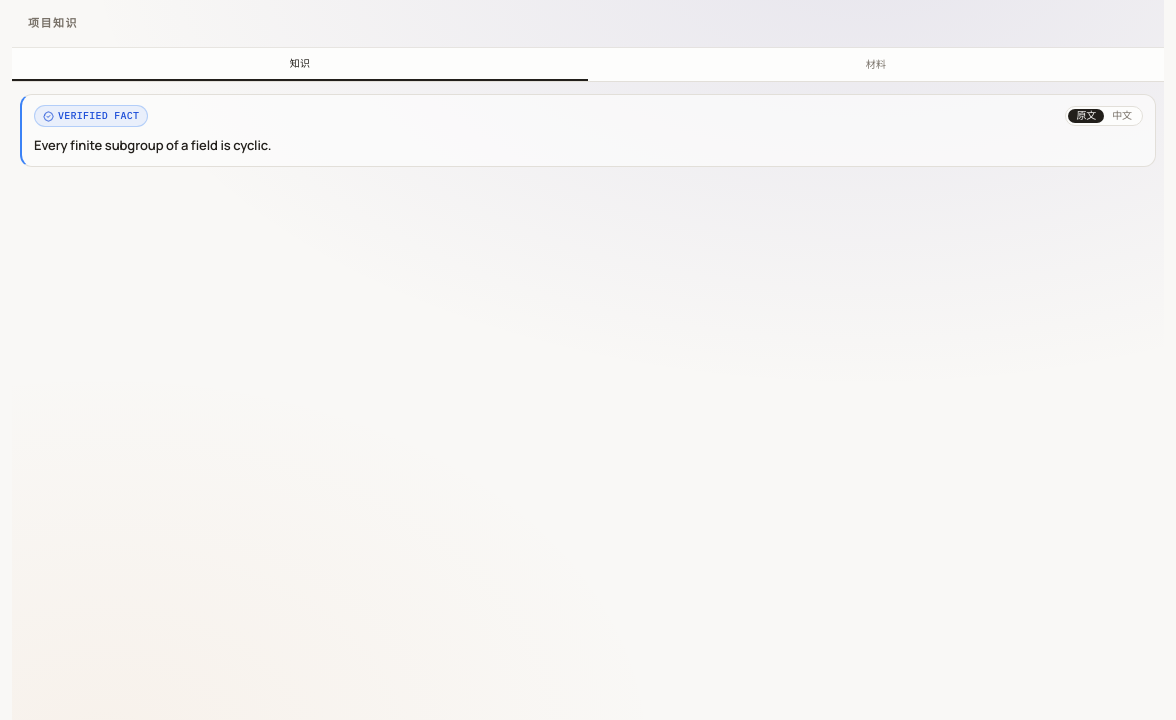
Test: KnowledgePanel › lets readers switch a saved English fact between original and Chinese
Check: the text "Every finite subgroup of a field is cyclic." is shown, box [34,136,271,154]
Click the button "中文" at (1122, 116), box [1104,109,1140,123]
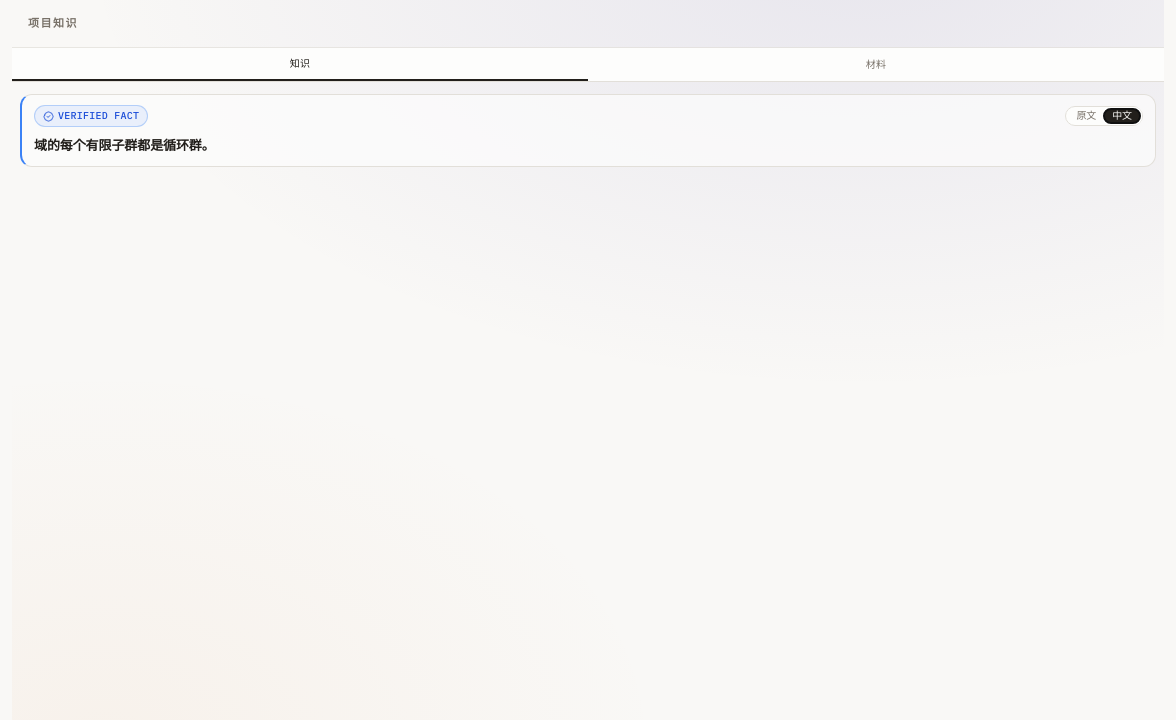
Check: the text "域的每个有限子群都是循环群。" is shown, box [34,136,215,154]
Click the button "原文" at (1086, 116), box [1068,109,1104,123]
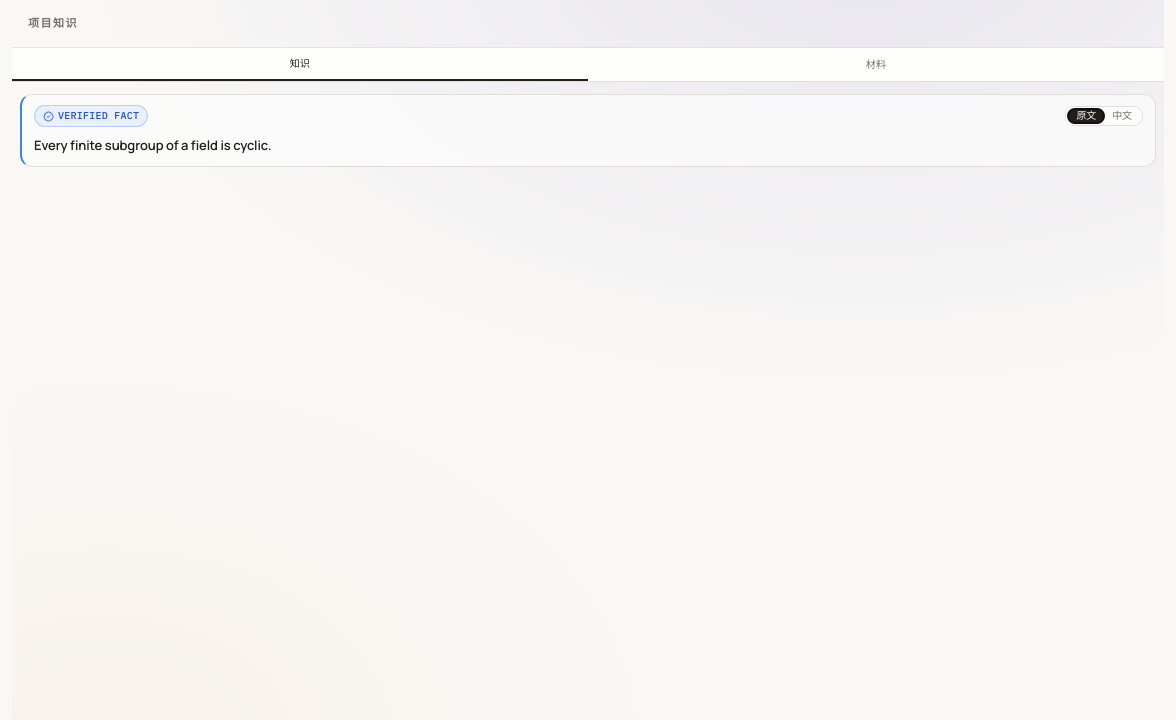
Check: the text "Every finite subgroup of a field is cyclic." is shown, box [34,136,271,154]
